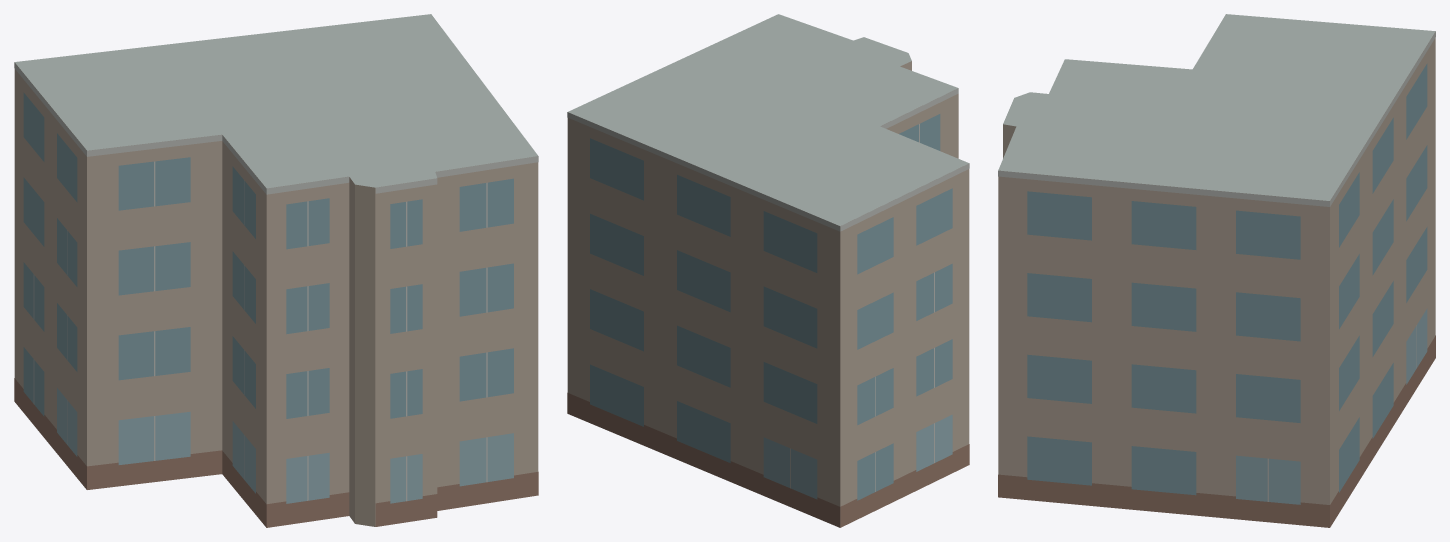
File: survey-upis-32666113.glb
3 renders of one model, left to right at view 1: azimuth 30°, elevation 25°; view 2: azimuth 150°, elevation 25°; view 3: azimuth 270°, elevation 25°, orthographic. The views are drawn at different scales.
Visible parts, largest first — view 1: survey-upis-32666113.tmp; view 2: survey-upis-32666113.tmp; view 3: survey-upis-32666113.tmp.
Boxes of the visible parts, x1,y1,x2,y2 form: survey-upis-32666113.tmp: (14, 14, 538, 527); survey-upis-32666113.tmp: (567, 14, 969, 527); survey-upis-32666113.tmp: (998, 14, 1435, 527).
Size of the model in its own units: 16.46 by 13.4 by 16.28.
